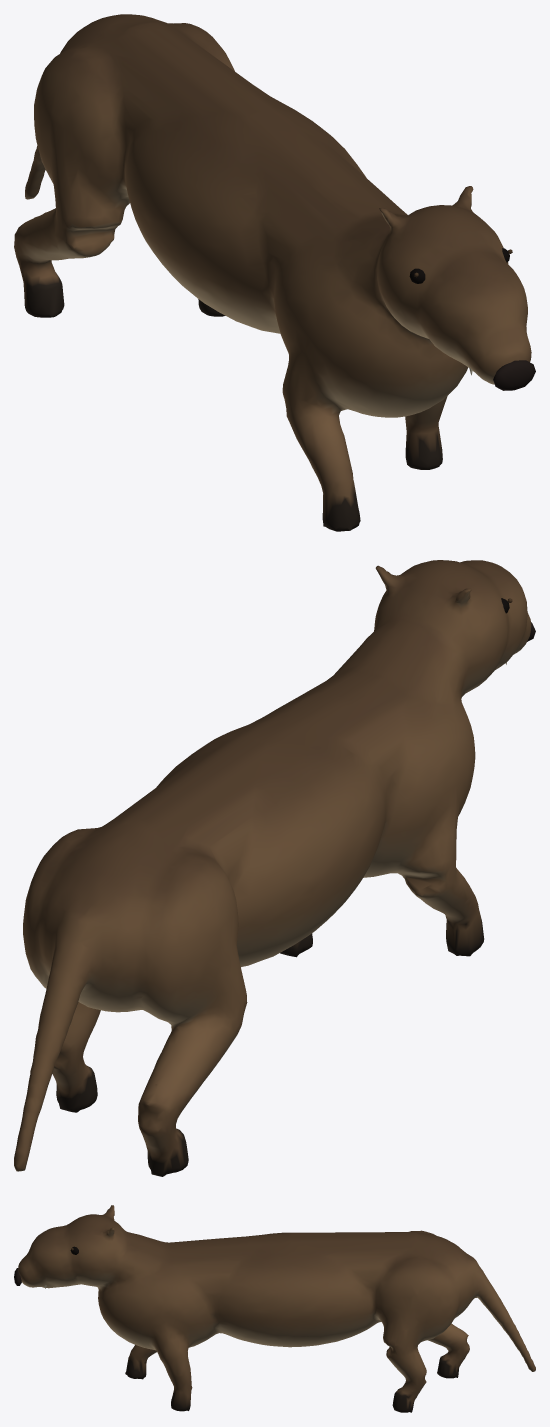
The model's file is MerycoidodonCulbertsoni.fbx.
3 renders of one model, top to bottom at view 1: azimuth 30°, elevation 25°; view 2: azimuth 150°, elevation 25°; view 3: azimuth 270°, elevation 25°, orthographic. The views are drawn at different scales.
Visible parts, largest first — view 1: MerycoidodonCulbertsoni; view 2: MerycoidodonCulbertsoni; view 3: MerycoidodonCulbertsoni.
Boxes of the visible parts, left/top/right/bottom form: MerycoidodonCulbertsoni: left=14, top=14, right=535, bottom=531; MerycoidodonCulbertsoni: left=14, top=560, right=535, bottom=1176; MerycoidodonCulbertsoni: left=14, top=1205, right=535, bottom=1412.
Bounding box in the file's own units: 0.357 × 0.6064 × 1.62.
